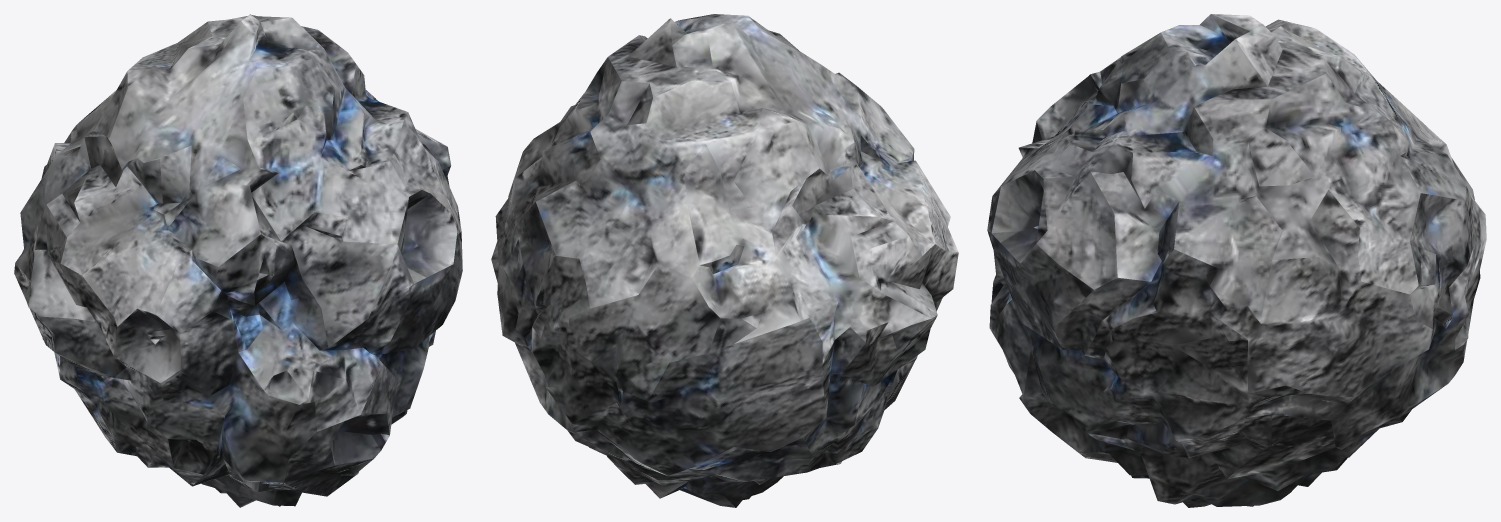
The model's file is enemy-asteroid.glb.
3 views of the same model, side by side, from view 1: azimuth 30°, elevation 25°; view 2: azimuth 150°, elevation 25°; view 3: azimuth 270°, elevation 25° (orthographic). The views are drawn at different scales.
Visible parts, largest first — view 1: geometry_0; view 2: geometry_0; view 3: geometry_0.
Part boxes in pixels (x1,y1,x2,y2): geometry_0: (14,14,462,507); geometry_0: (491,14,958,507); geometry_0: (987,14,1486,507).
Bounding box in the file's own units: 0.9169 × 1.01 × 0.9317.
Materials: 1 (1 with a texture image).
